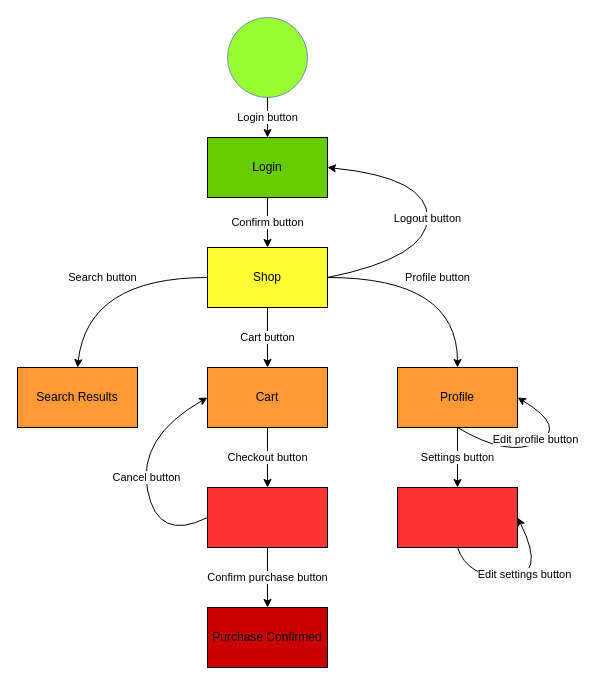
The diagram is 596 pixels wide and 685 high, and some of its shapes have lost their labels. Each missing label, with the centre of its shape:
Checkout: point (267, 517)
Home: point (267, 57)
Settings: point (457, 517)
